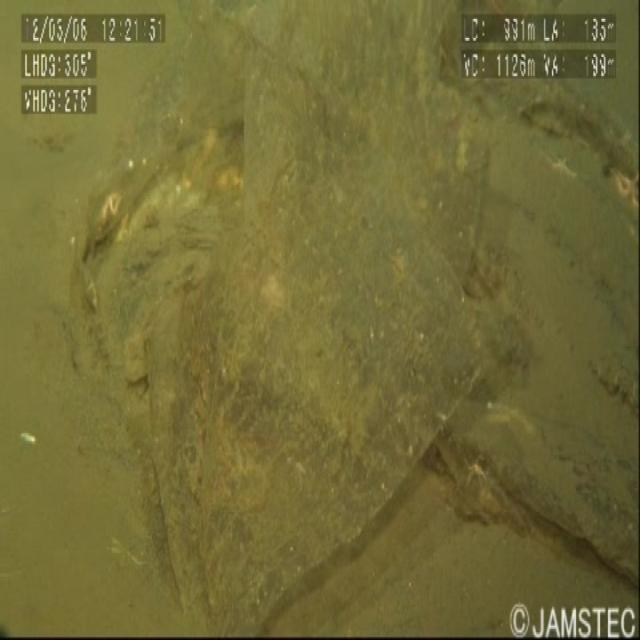Natual-Debris: (93, 133, 264, 239)
Rope: (68, 4, 640, 640)
